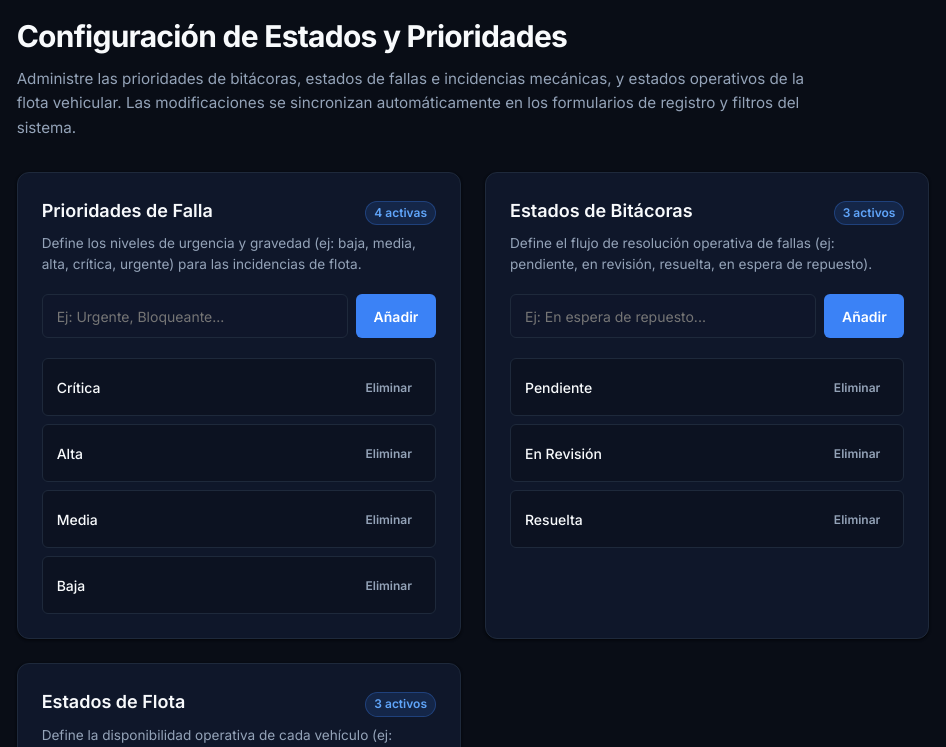
Test: ConfiguracionCatalogosPage › restablece los catálogos a sus valores predeterminados al hacer clic en restablecer
# Eliminar crítica
Click the button with aria-label "Eliminar prioridad crítica" at (389, 387), box top-left (356, 369), bottom-right (421, 405)
(page scrolled)
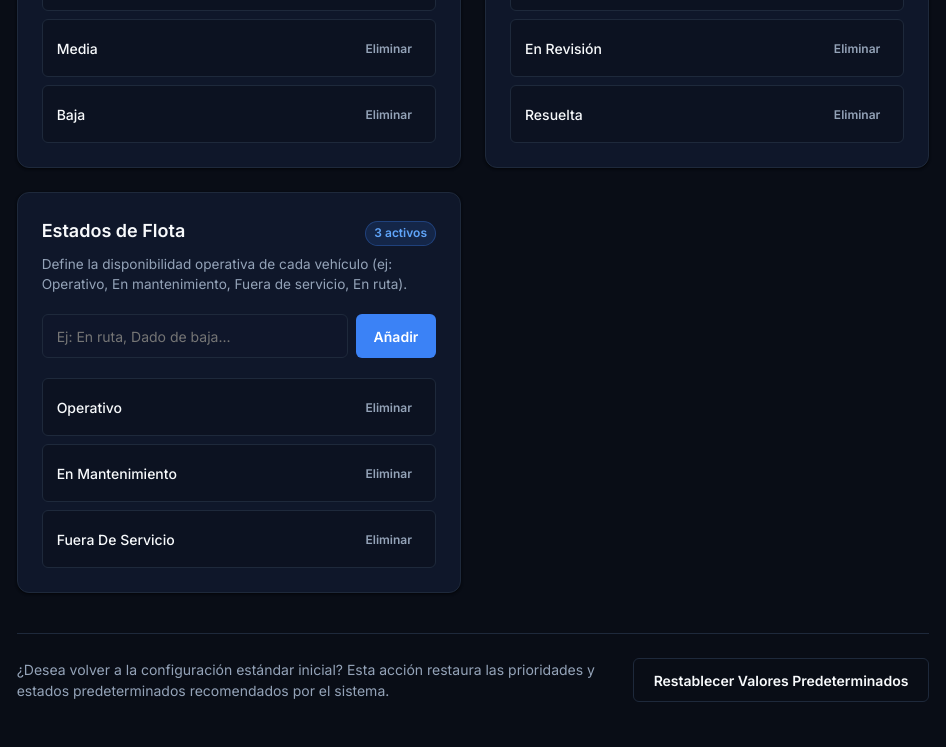
Expected: the text "crítica" is gone
Click the button "Restablecer Valores Predeterminados" at (781, 680), box top-left (633, 658), bottom-right (929, 702)
(page scrolled)
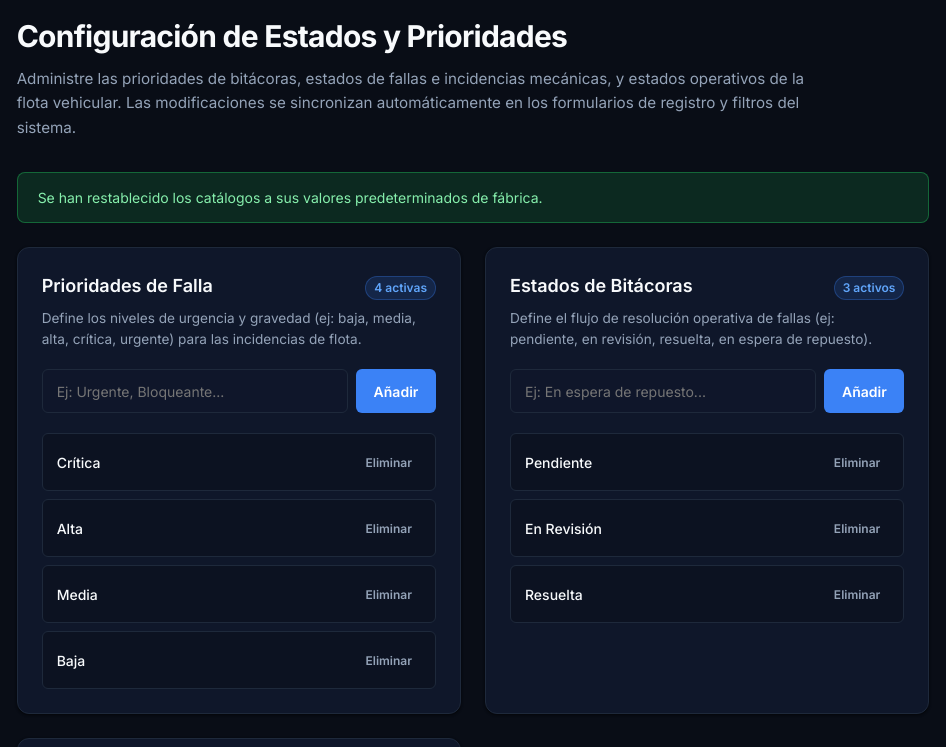
Expected: the text "crítica" is shown, top-left (57, 452), bottom-right (100, 473)
Expected: the text "Se han restablecido los catálogos a sus valores predeterminados de fábrica." is shown, top-left (17, 172), bottom-right (929, 223)
